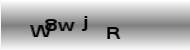8: (45, 18, 57, 31)
R: (106, 26, 120, 40)
W: (28, 24, 51, 38)
j: (81, 15, 89, 32)
w: (56, 21, 75, 31)
